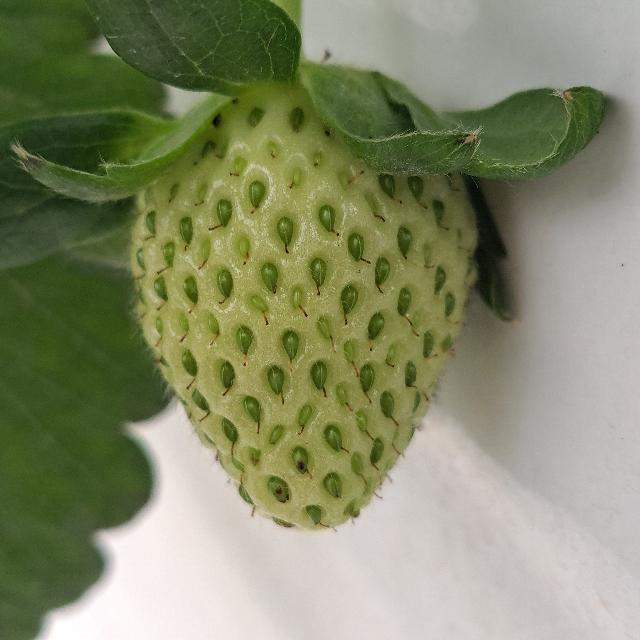Health_25: (130, 93, 478, 530)
